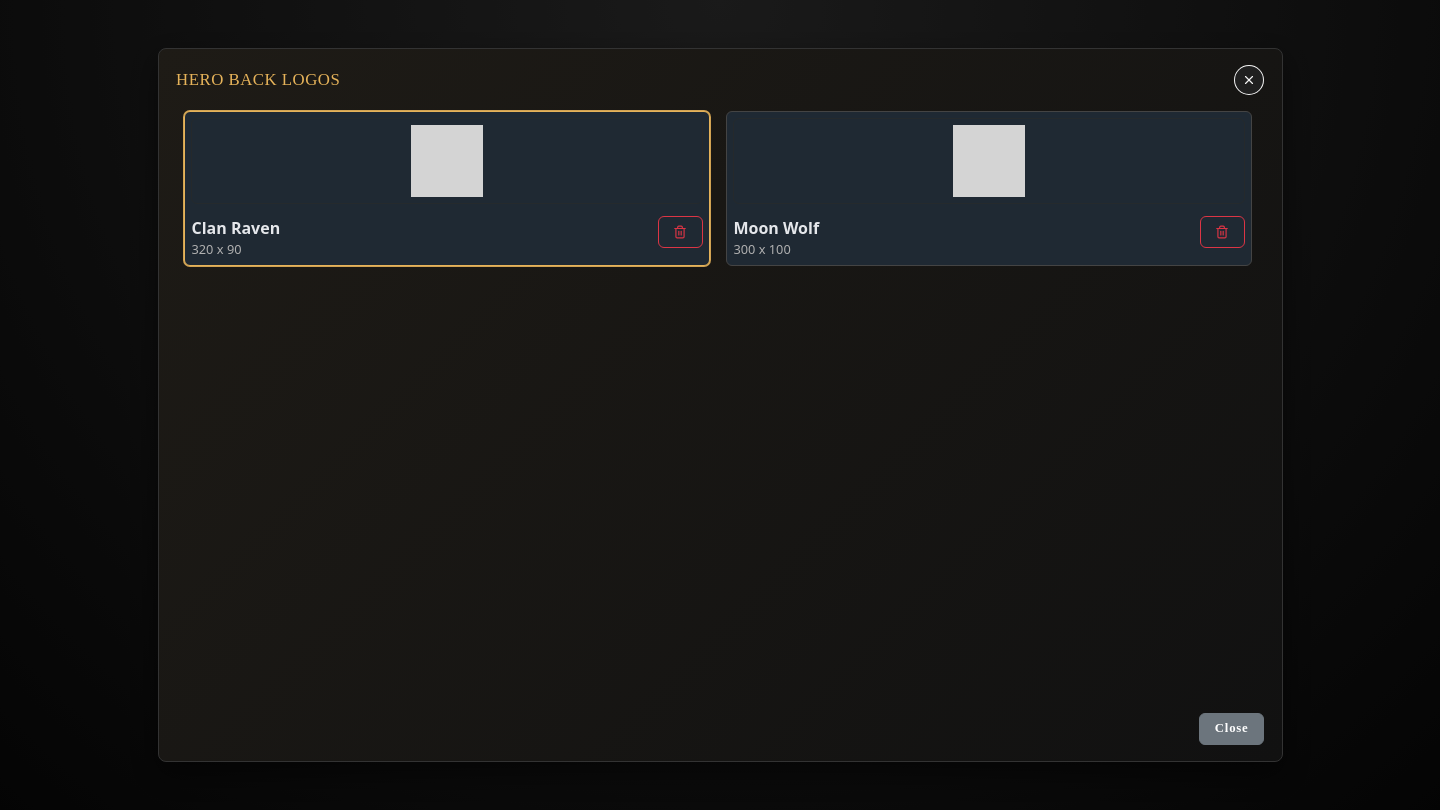
HeroBackLogoModal › prompts remediation without a no-logo option when deleting an in-use logo
Click the button named "Delete" in the row of "Clan Raven": (680,232) 658,216 -> 703,248
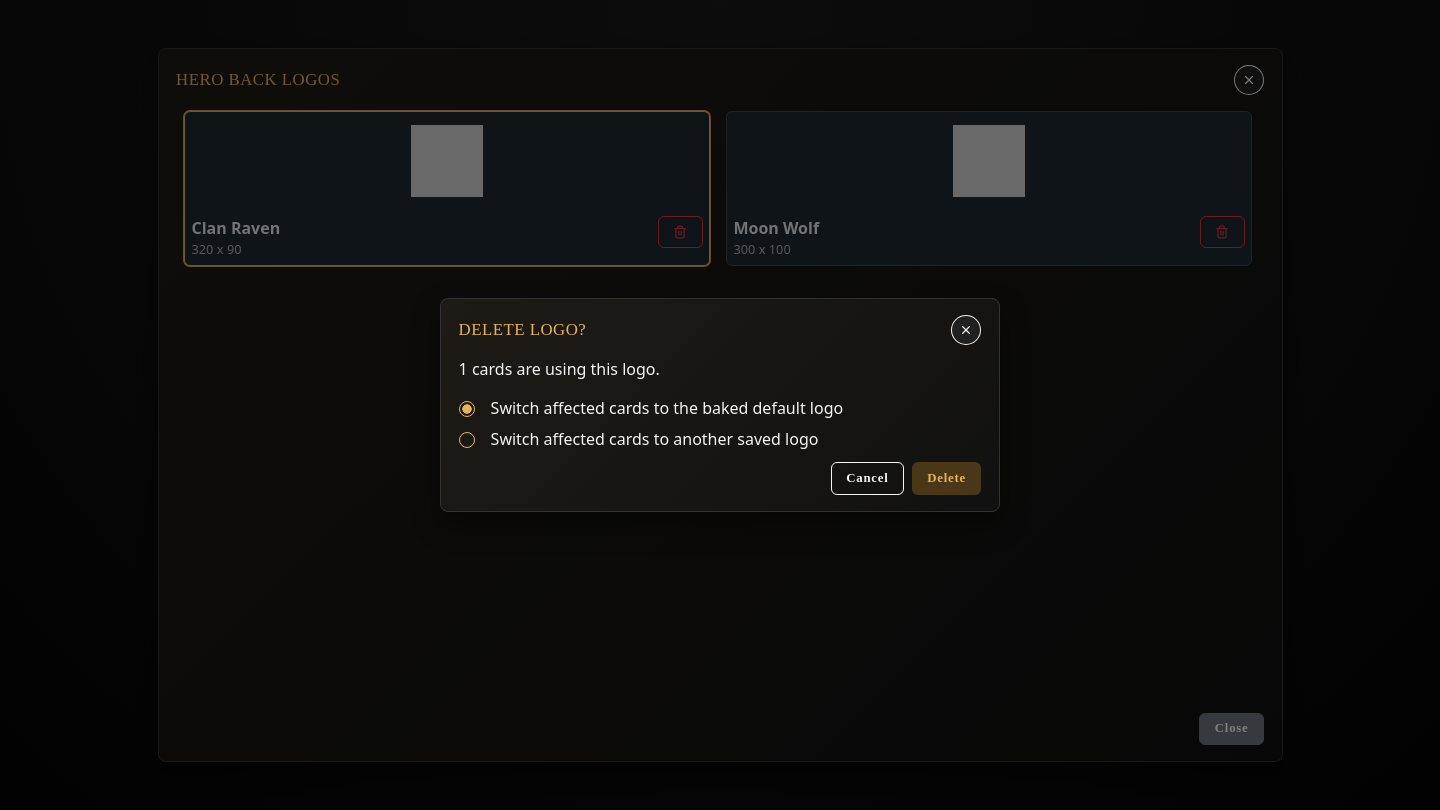
Expected: the heading "Delete logo?" is shown, 459,320 -> 586,340
Expected: the text "Switch affected cards to the baked default logo" is shown, 491,397 -> 843,420
Expected: the text "Switch affected cards to another saved logo" is shown, 491,428 -> 818,450
